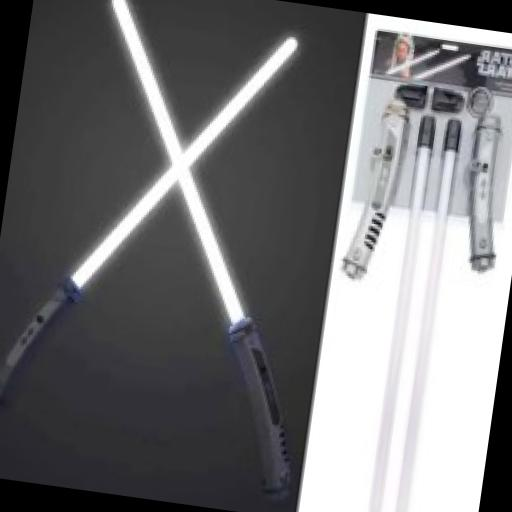lightsaber: (38, 0, 355, 501), (0, 0, 302, 446), (339, 95, 410, 282), (452, 104, 512, 274)
